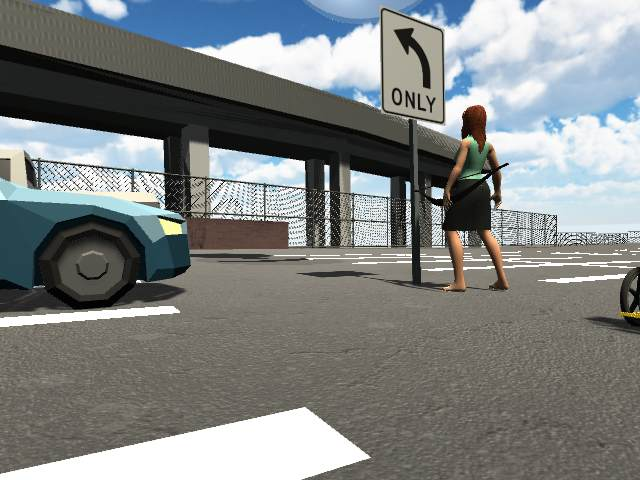arrow_left: (388, 27, 440, 88)
